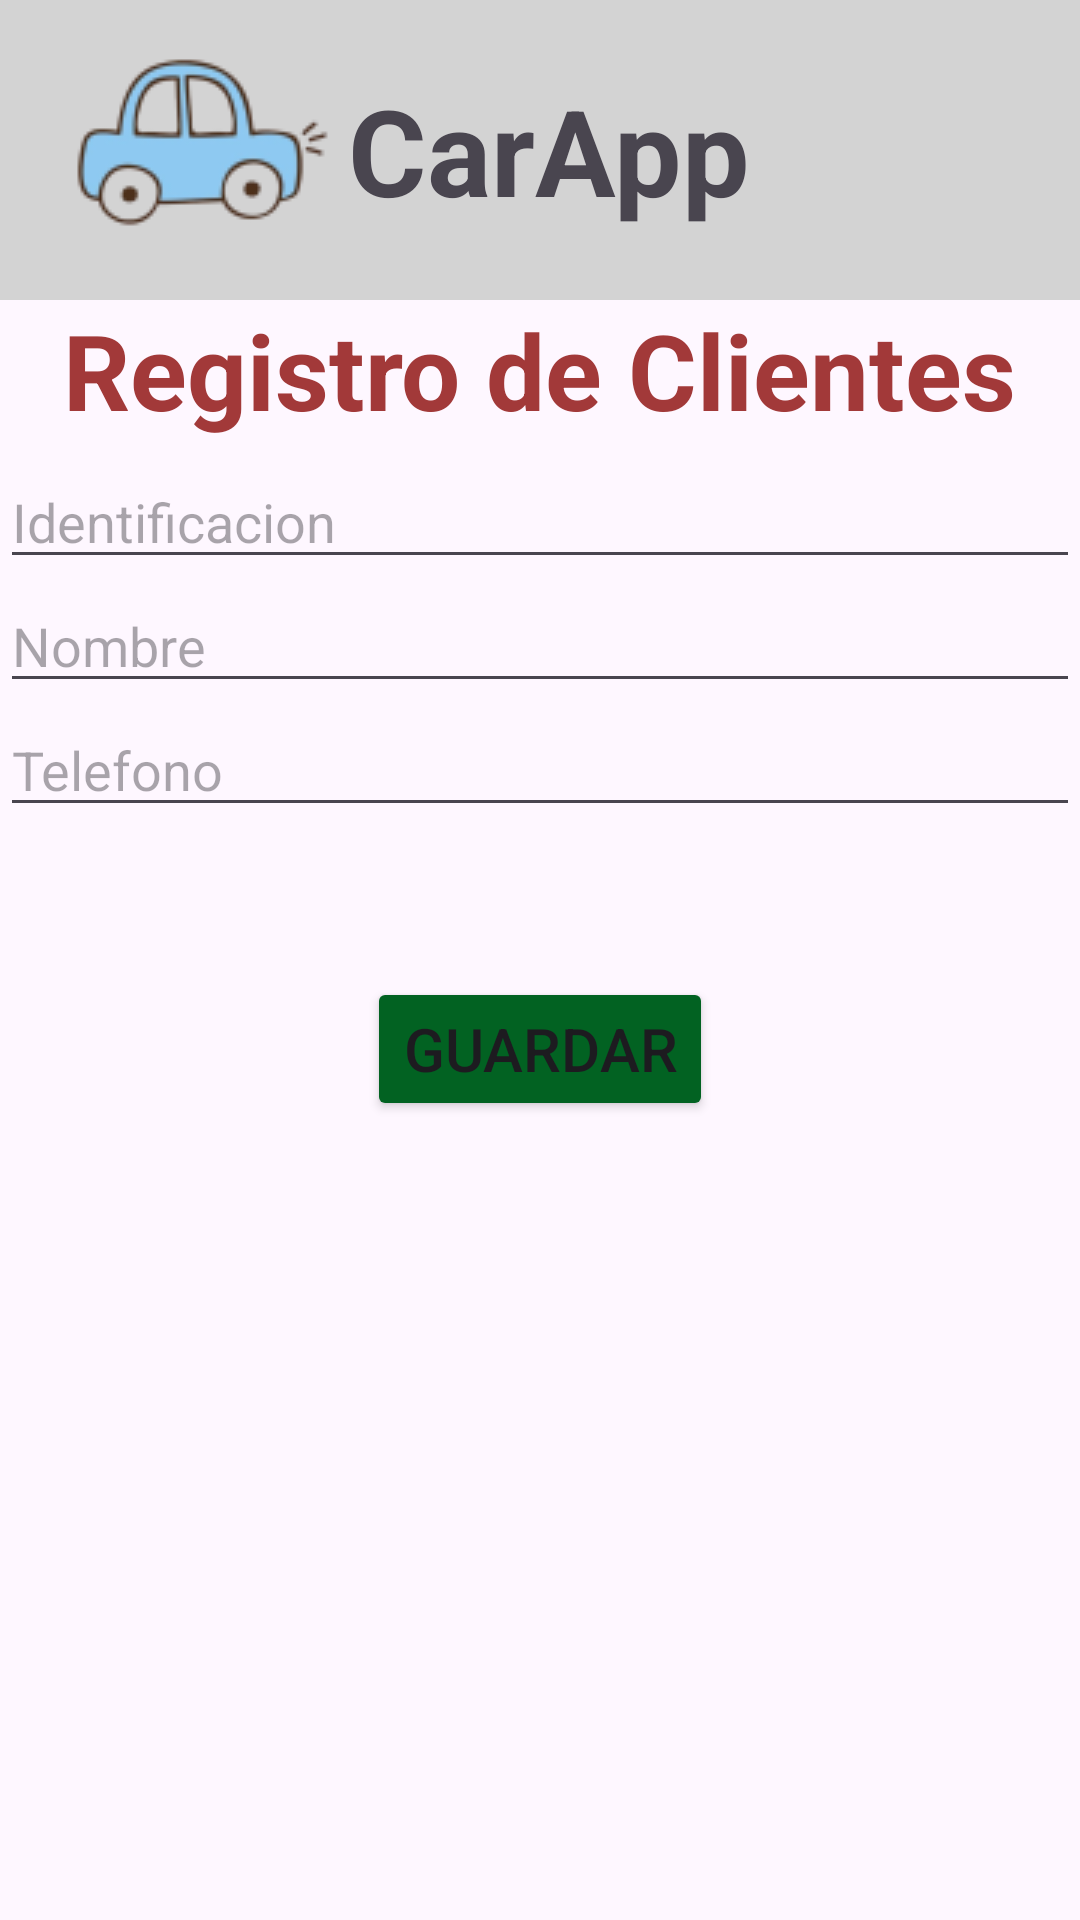

Icons on this 1080px×1920px Android screen, each with its box as (x1, y1, x2, y2):
carrito: (77, 59, 327, 226)
